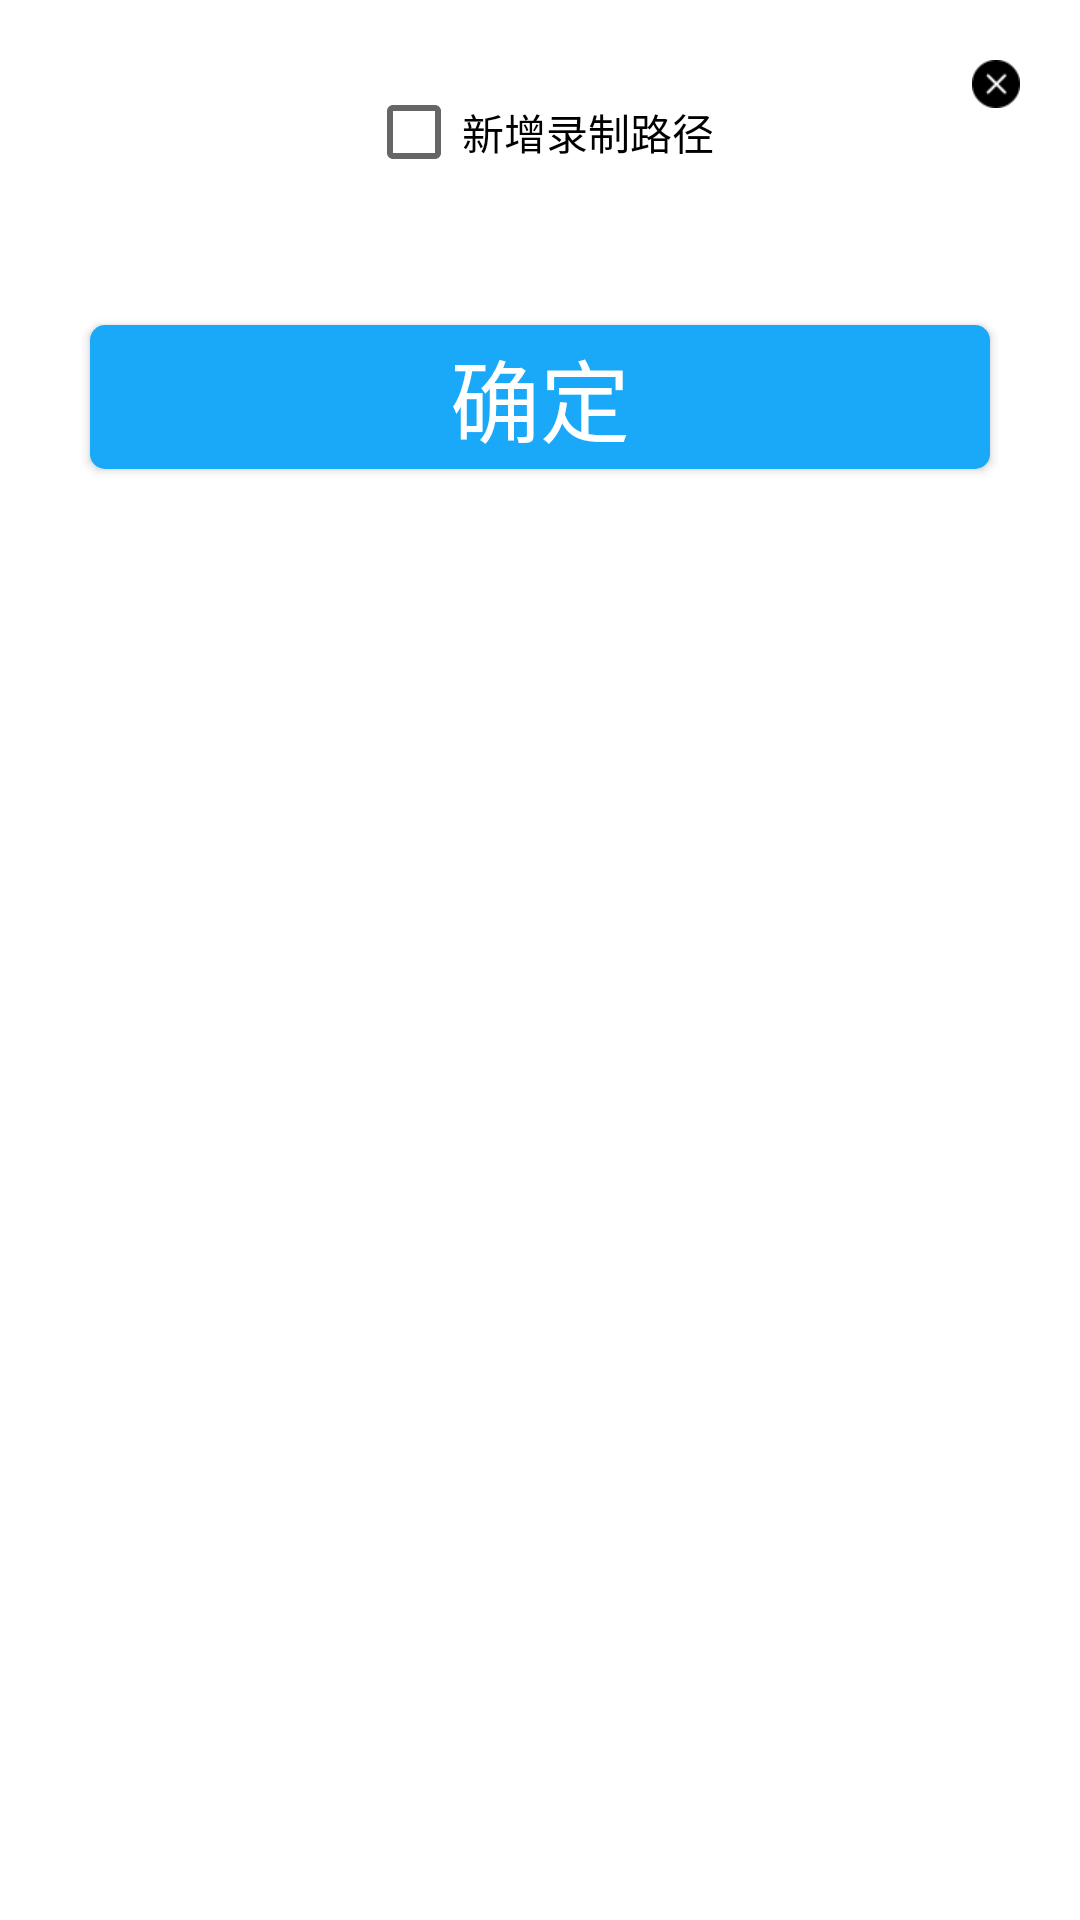

Icons on this 1080 × 1920 Android screen, each with its box as (x1, y1, x2, y2):
close gothere: (972, 60, 1020, 108)
